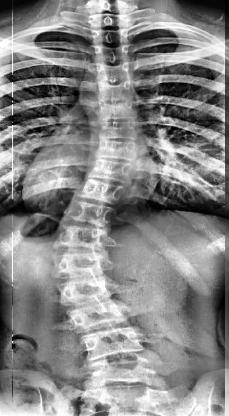Vertebrae: (79, 326, 145, 364), (82, 357, 154, 391), (66, 296, 124, 334), (53, 276, 113, 308), (55, 223, 109, 254), (50, 250, 108, 278), (62, 198, 116, 228), (76, 178, 126, 206), (87, 159, 133, 187), (94, 137, 137, 163), (96, 118, 138, 142), (96, 99, 138, 121), (96, 80, 132, 104), (94, 62, 132, 82), (90, 28, 132, 46), (92, 46, 132, 64)
